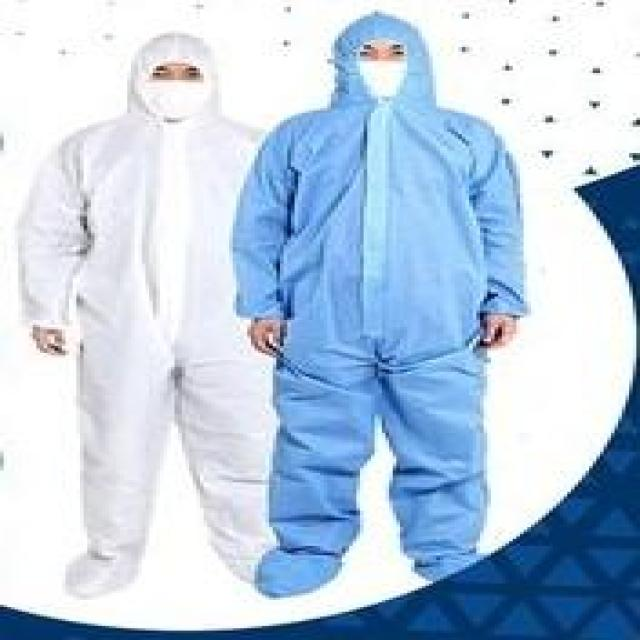Coverall: (233, 5, 553, 598), (26, 24, 328, 607)
Mask: (124, 75, 226, 118), (349, 57, 422, 109)
